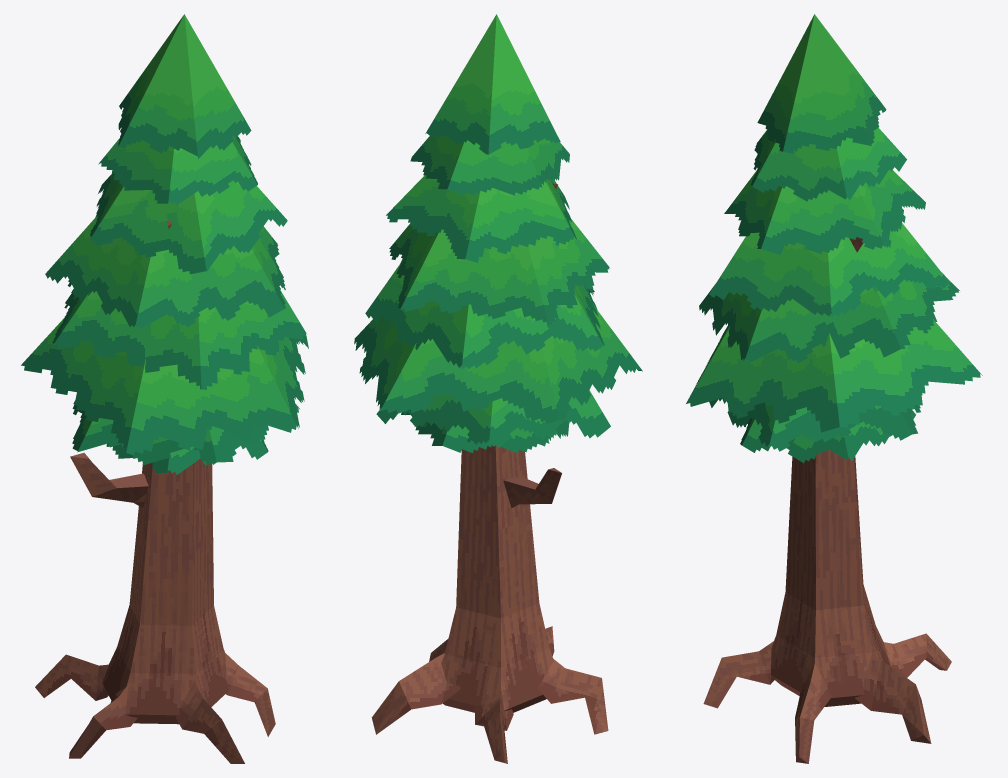
The picture shows the model from 3 angles, left to right: view 1: azimuth 30°, elevation 25°; view 2: azimuth 150°, elevation 25°; view 3: azimuth 270°, elevation 25°; orthographic projection. The views are drawn at different scales.
Parts seen in each view (by area): view 1: cylinder (×2); view 2: cylinder (×2); view 3: cylinder (×2).
Part boxes in pixels (x1,y1,x2,y2): cylinder (×2): (21,14,308,763); cylinder (×2): (354,14,642,763); cylinder (×2): (686,14,982,763).
Size of the model in its own units: 5.48 by 14.18 by 5.71.
2 materials, 2 textured.
